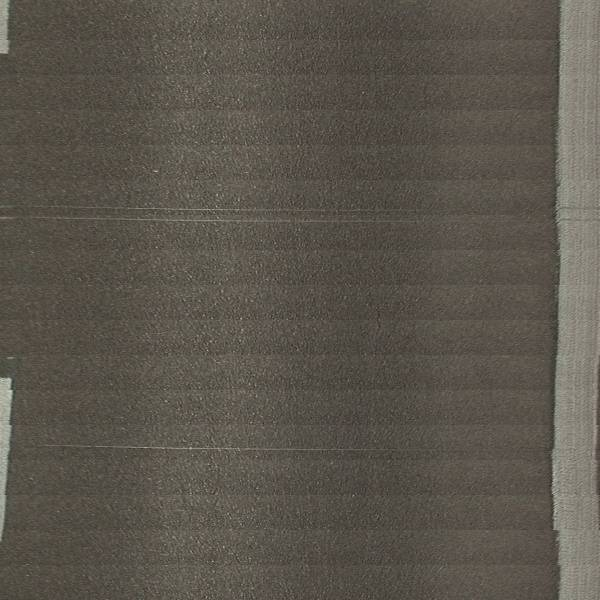road_damage: (48, 440, 402, 456), (49, 202, 457, 215)
